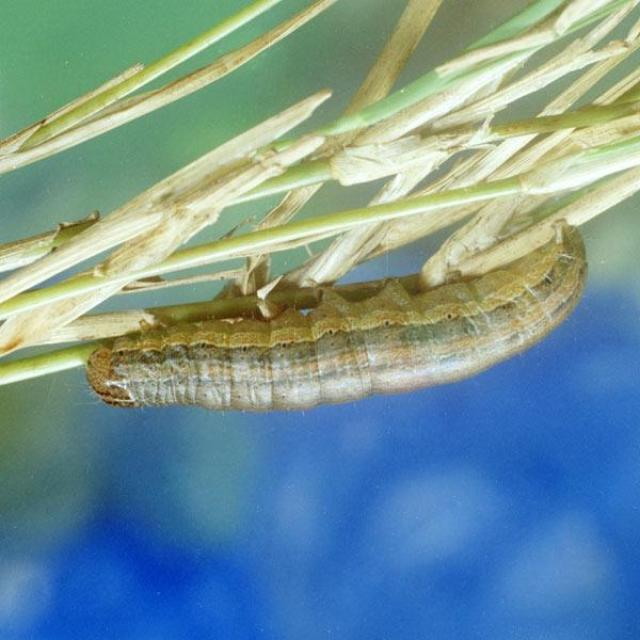army worm: (82, 221, 588, 421)
